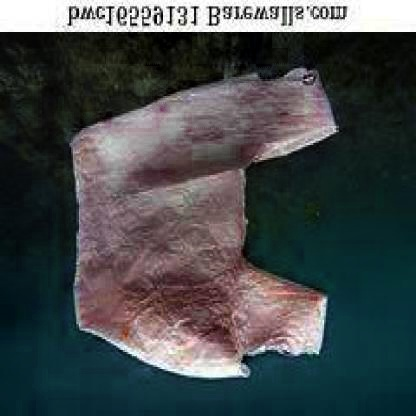pbag: (67, 64, 340, 380)
